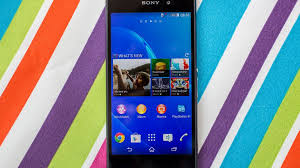sony: (103, 1, 203, 166)
